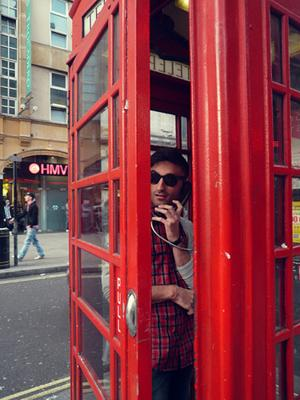person: (102, 147, 199, 400)
